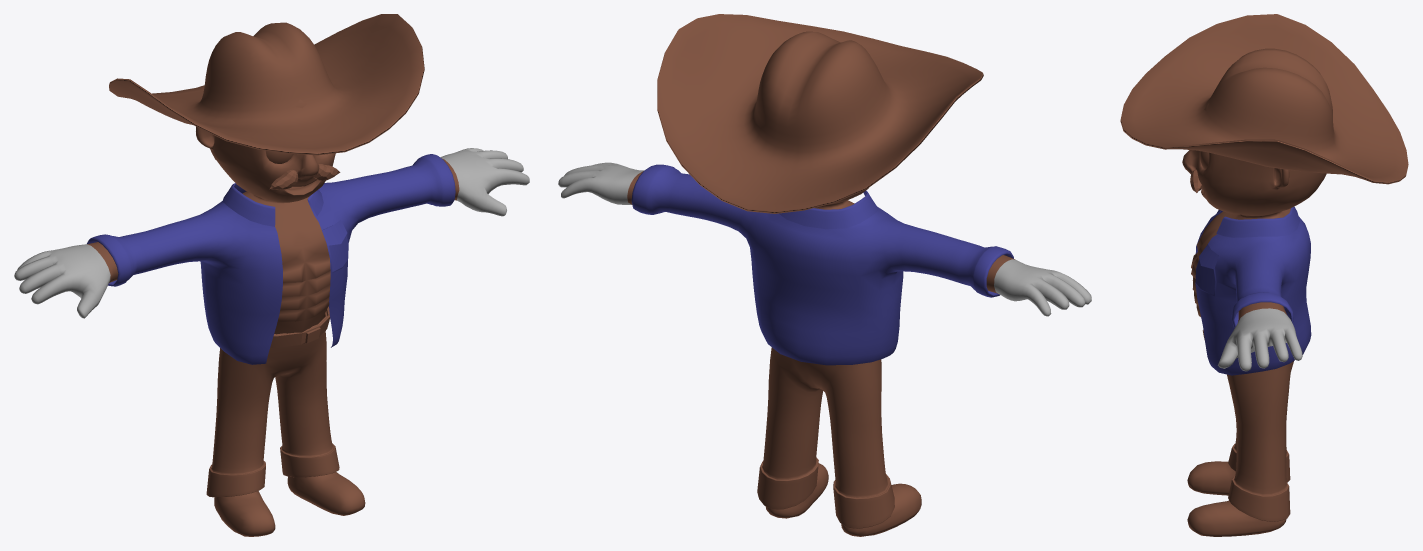
Rendered from Farmer.fbx.
The picture shows the model from 3 angles, left to right: view 1: azimuth 30°, elevation 25°; view 2: azimuth 150°, elevation 25°; view 3: azimuth 270°, elevation 25°; orthographic projection. The views are drawn at different scales.
Visible parts, largest first — view 1: pCube7; view 2: pCube7; view 3: pCube7.
Part boxes in pixels (x1,y1,x2,y2): pCube7: (14, 14, 529, 536); pCube7: (558, 14, 1091, 536); pCube7: (1120, 14, 1408, 536).
Bounding box in the file's own units: 128 × 113 × 65.99.
